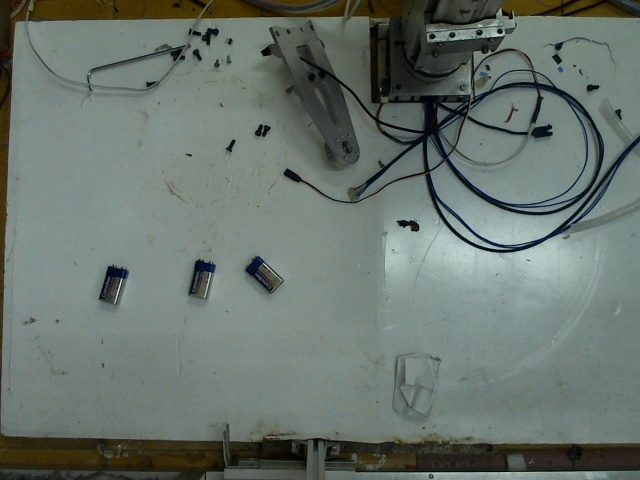battery: (245, 253, 288, 296), (96, 257, 129, 313), (187, 253, 218, 305)
